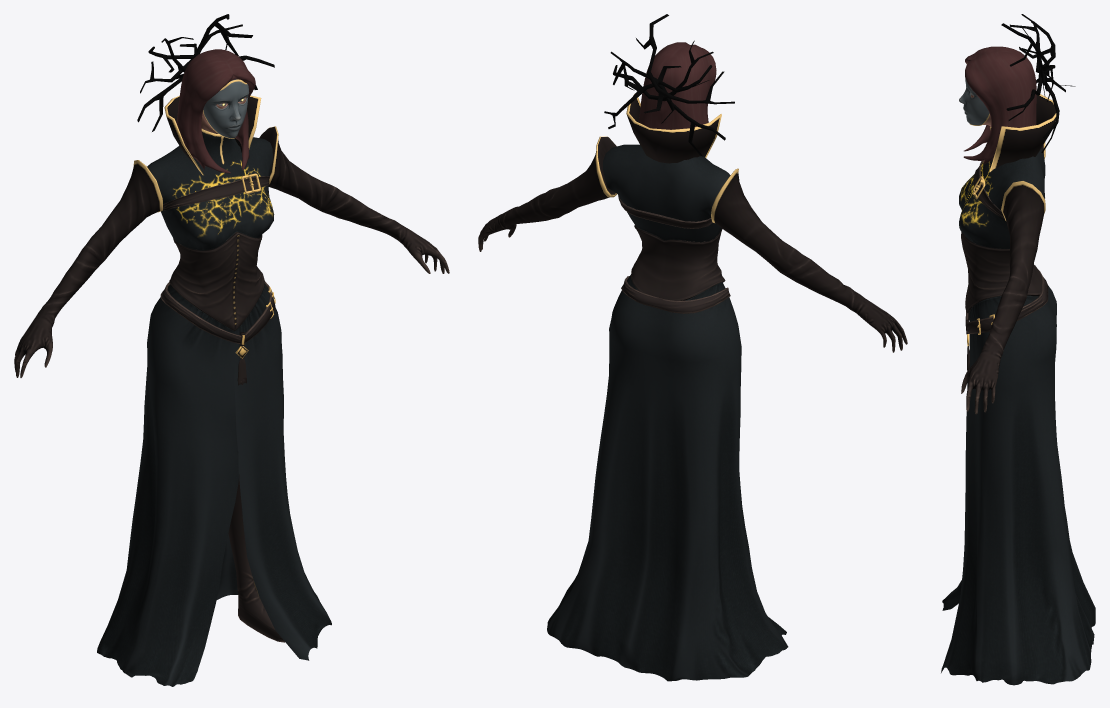
File: VedmaBezRigg.fbx
3 renders of one model, left to right at view 1: azimuth 30°, elevation 25°; view 2: azimuth 150°, elevation 25°; view 3: azimuth 270°, elevation 25°, orthographic.
Visible parts, largest first — view 1: plat2.001, Hand, Kars, Hair_low, Obuv, Venok2, Mask_low, Remendwo, Remen, Vorot; view 2: plat2.001, Hand, Kars, Hair_low, Venok2, Vorot, Remendwo, Remen; view 3: plat2.001, Hand, Hair_low, Kars, Vorot, Venok2, Remendwo, Mask_low, Remen.
Boxes of the visible parts, <box> form: plat2.001: <box>97,129,331,686</box>; Hand: <box>14,126,449,377</box>; Kars: <box>169,232,264,330</box>; Hair_low: <box>176,49,255,173</box>; Obuv: <box>228,474,284,642</box>; Venok2: <box>137,14,274,131</box>; Mask_low: <box>203,79,249,138</box>; Remendwo: <box>160,281,275,344</box>; Remen: <box>163,176,269,210</box>; Vorot: <box>164,95,261,175</box>; plat2.001: <box>547,144,788,681</box>; Hand: <box>478,136,907,352</box>; Kars: <box>631,225,725,300</box>; Hair_low: <box>638,42,716,129</box>; Venok2: <box>604,14,734,156</box>; Vorot: <box>626,94,721,163</box>; Remendwo: <box>621,276,730,313</box>; Remen: <box>618,194,712,228</box>; plat2.001: <box>941,127,1095,685</box>; Hand: <box>961,142,1045,414</box>; Hair_low: <box>963,46,1036,164</box>; Kars: <box>961,232,1042,313</box>; Vorot: <box>989,94,1056,172</box>; Venok2: <box>1001,14,1075,152</box>; Remendwo: <box>965,269,1048,333</box>; Mask_low: <box>959,63,989,125</box>; Remen: <box>973,161,1004,219</box>.
Bounding box in the file's own units: 215 × 307 × 70.12.
